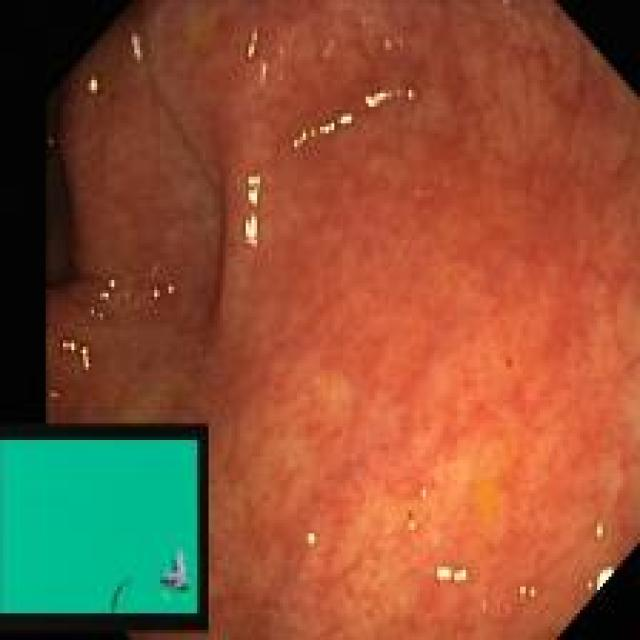ulcerative-colitis-grade-1: (49, 3, 640, 639)
